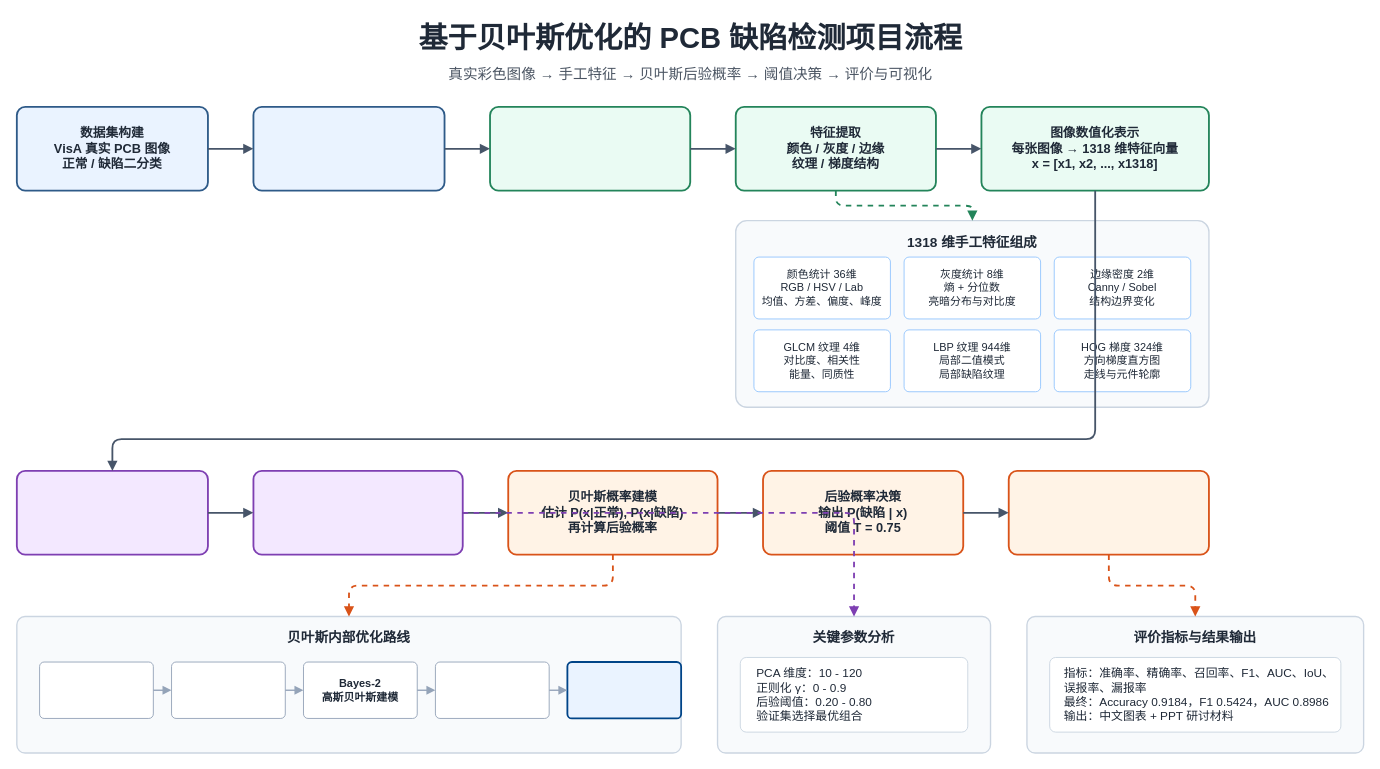
The diagram is 1380 pixels wide and 769 high, and some of its shapes have lost their labels. The shapes that lost their labels are listed below. From the top down, each one's centre as x and y in pixels, then its label:
At (x=348, y=148): "数据整理与划分 pcb1 - pcb4 子集 训练 / 验证 / 测试".
At (x=590, y=148): "图像预处理 缩放到 256×256 灰度增强 + 颜色空间转换".
At (x=111, y=512): "特征标准化 z = (x - μ) / σ 只用训练集统计量".
At (x=357, y=512): "PCA 降维 搜索维度：10 / 20 / 40 / 80 / 120 降低冗余与噪声".
At (x=1108, y=512): "分类输出 P(缺陷|x) ≥ T → 缺陷 否则 → 正常".
At (x=96, y=689): "Bayes-0 原始朴素贝叶斯".
At (x=228, y=689): "Bayes-1 加入 PCA 降维".
At (x=492, y=689): "Bayes-3 正则化协方差".
At (x=624, y=690): "Bayes-4 后验阈值优化".
